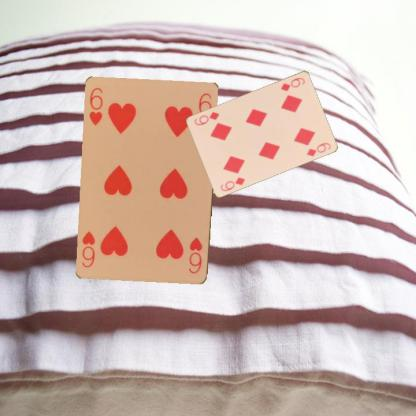6d: (278, 74, 306, 92), (218, 174, 246, 192)
6h: (186, 235, 204, 275), (87, 85, 104, 127)
